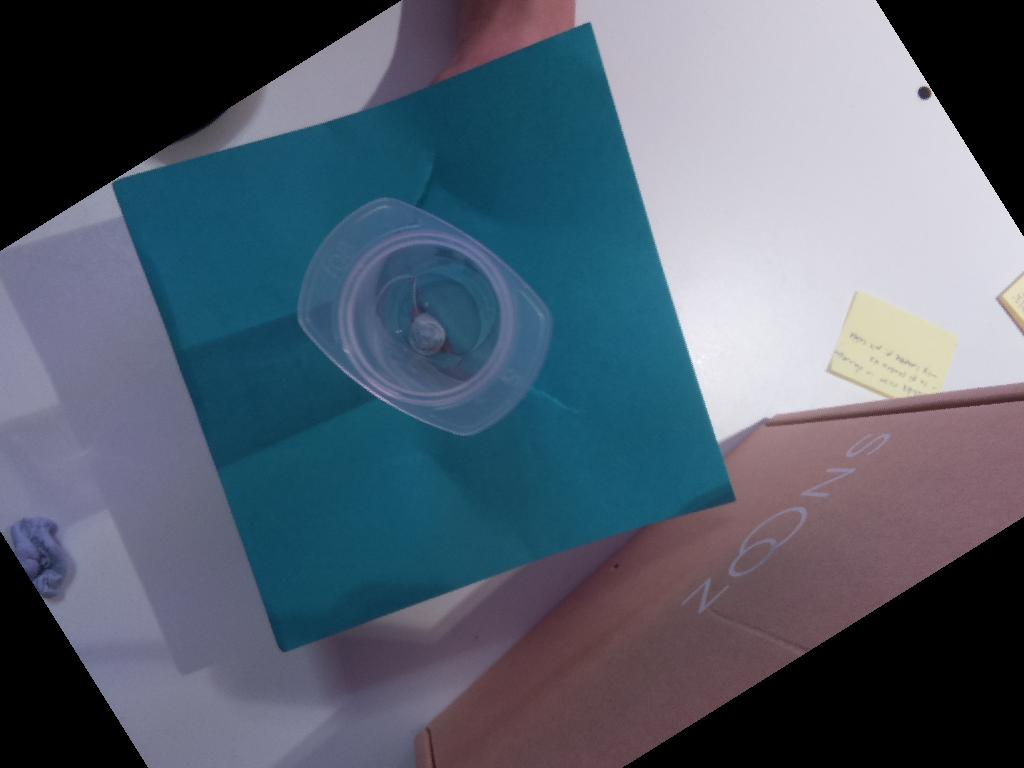clean: (296, 196, 555, 438)
